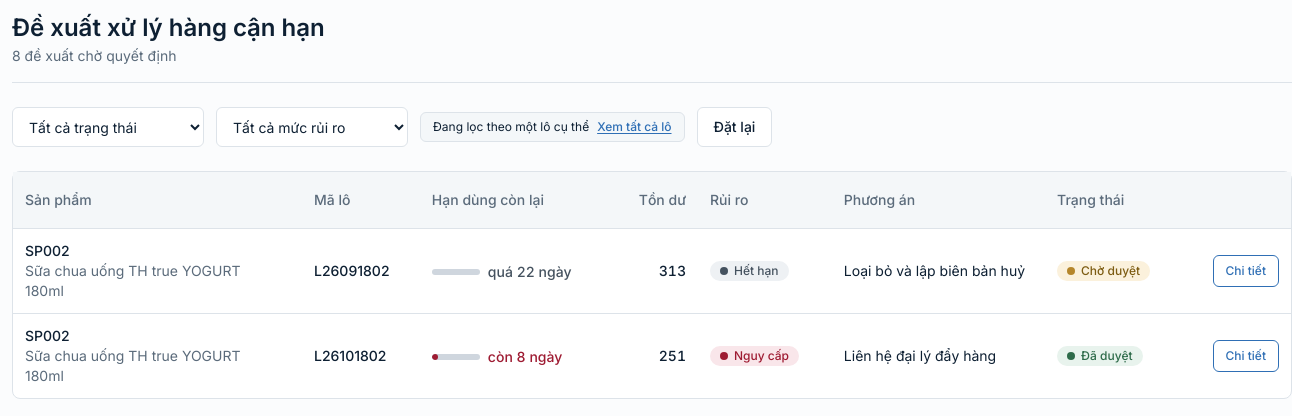
Test: ProposalsListPage (T-014 AC8, mockup 21) › lọc theo trạng thái, mức rủi ro và đọc tham số ?lotId= từ URL
Expected: the text "Đang lọc theo một lô cụ thể" is shown, [433,119,589,135]
Select "Chờ duyệt" in the dropdown named "Lọc theo trạng thái" at (108, 127), box [12,107,204,147]
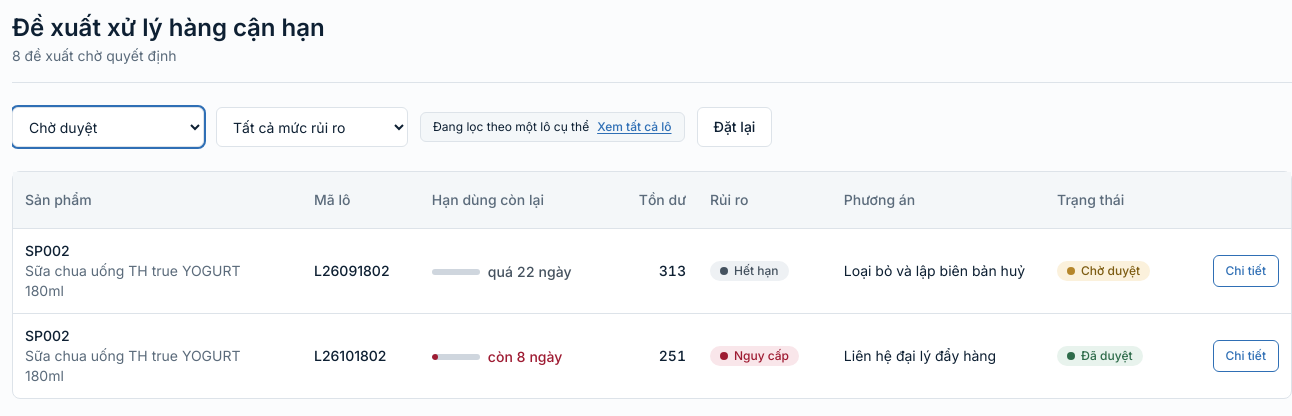
Select "Nguy cấp" in the dropdown named "Lọc theo mức rủi ro" at (312, 127), box [216,107,408,147]
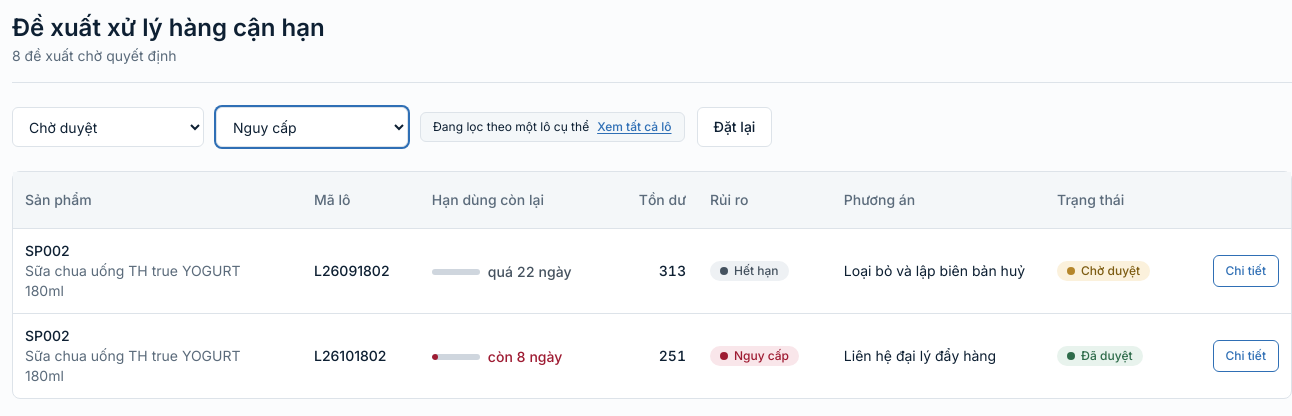
Click the button "Xem tất cả lô" at (634, 127), box [597,119,672,135]
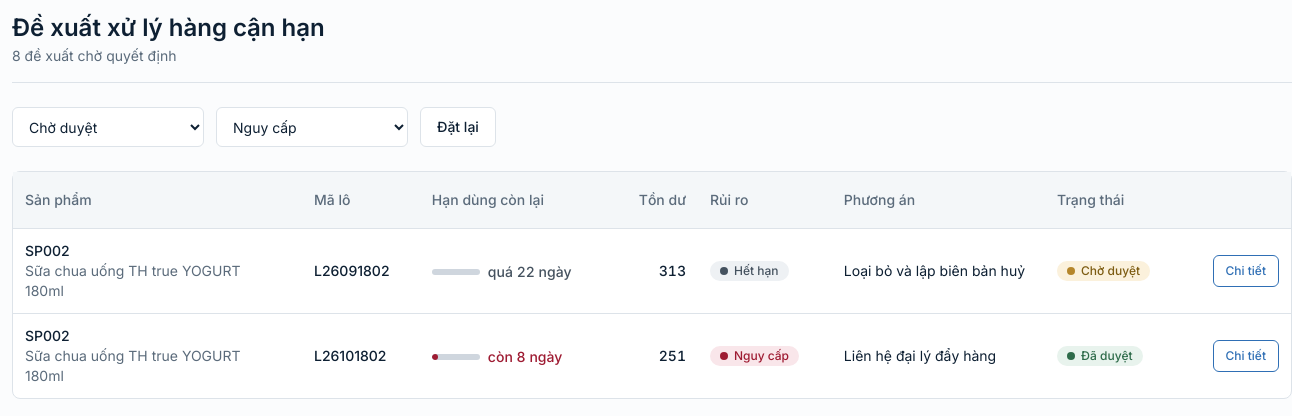
Expected: the text "Đang lọc theo một lô cụ thể" is gone
